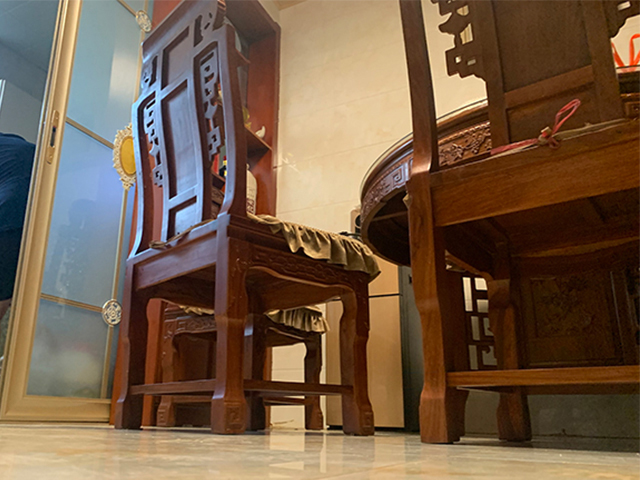stool: (113, 1, 383, 437), (398, 1, 640, 446), (154, 301, 329, 434)
